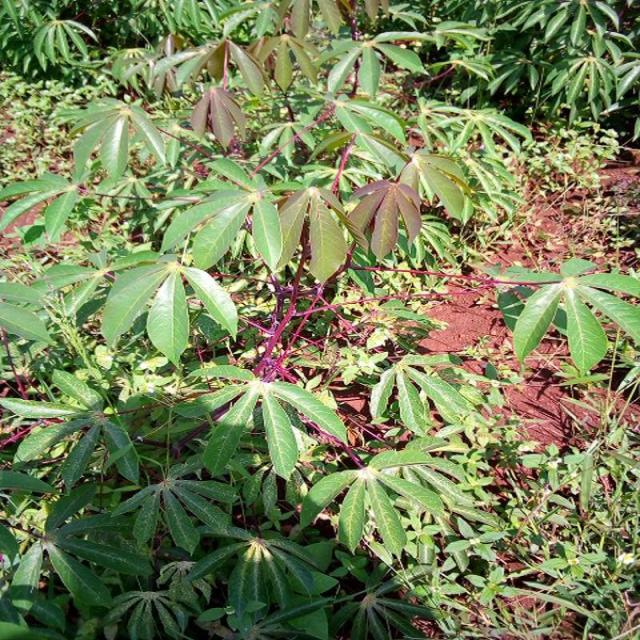cassava leaf: (260, 389, 298, 481)
